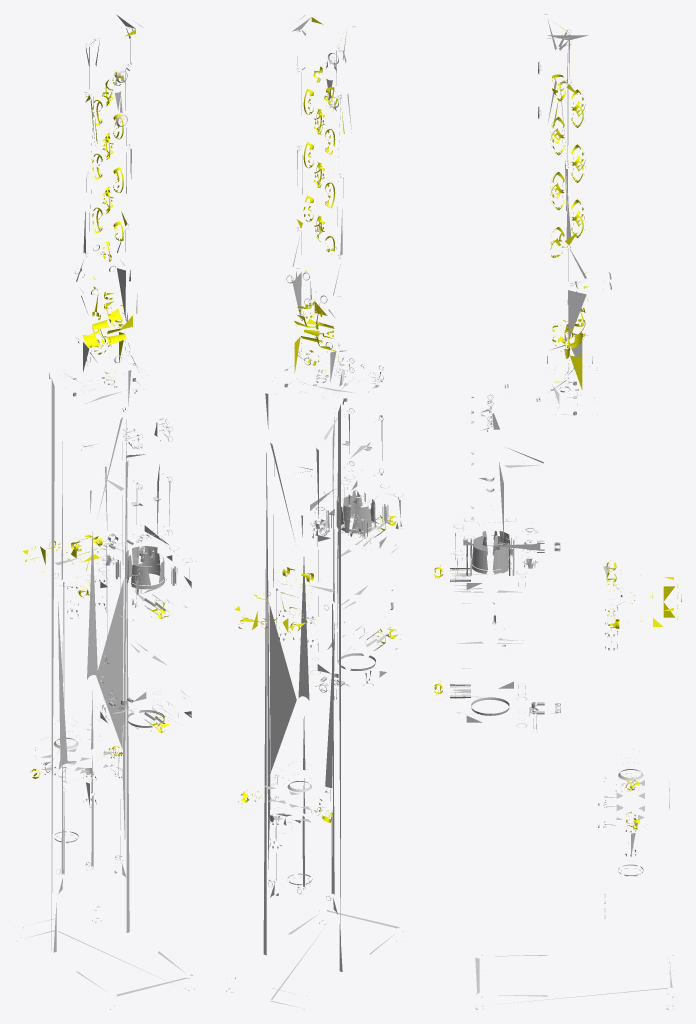
Rendered from EKW_BR212_Kappenwechsler_Rep.dae.
3 views of the same model, side by side, from view 1: azimuth 30°, elevation 25°; view 2: azimuth 150°, elevation 25°; view 3: azimuth 270°, elevation 25° (orthographic). The views are drawn at different scales.
Parts seen in each view (by area): view 1: EKW_BR212_Kappenwechsler (×2); view 2: EKW_BR212_Kappenwechsler (×2); view 3: EKW_BR212_Kappenwechsler (×2).
Boxes of the visible parts, x1=… form: EKW_BR212_Kappenwechsler (×2): x1=14, y1=14, x2=196, y2=1009; EKW_BR212_Kappenwechsler (×2): x1=226, y1=14, x2=405, y2=1009; EKW_BR212_Kappenwechsler (×2): x1=434, y1=14, x2=681, y2=1009.
Size of the model in its own units: 150 by 351 by 1503.
